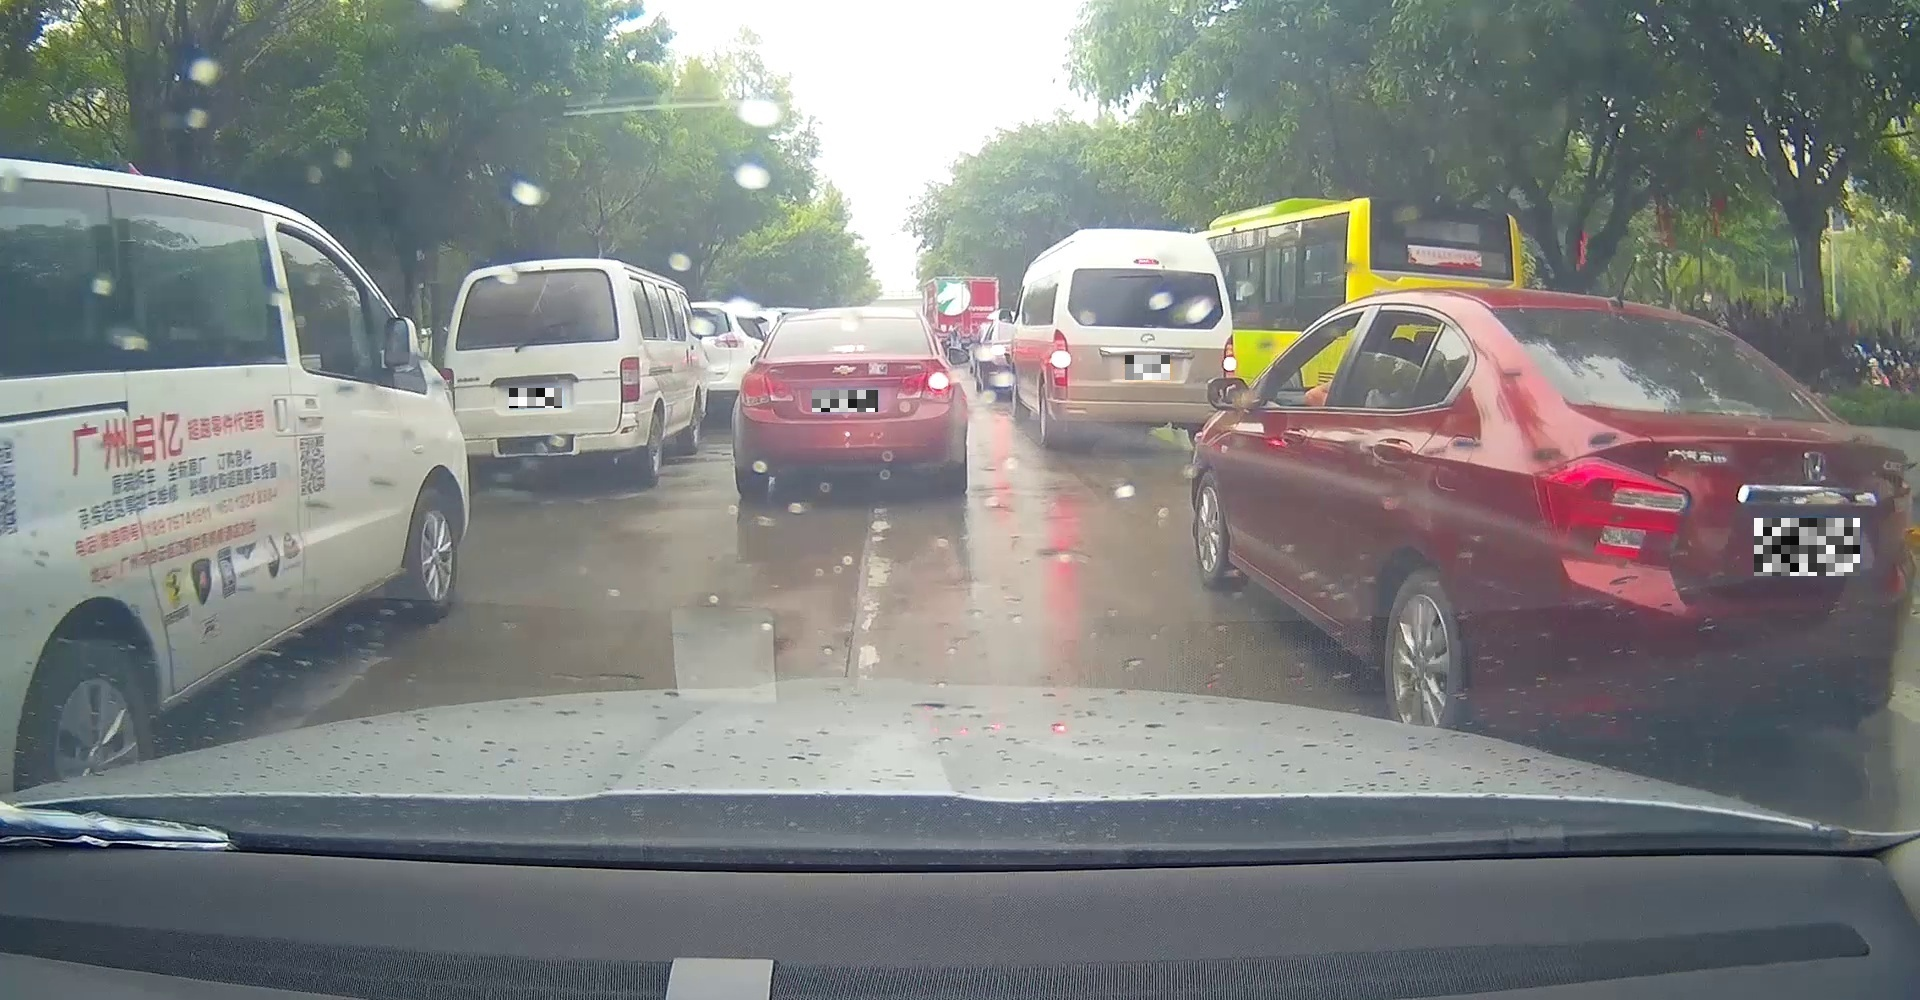L_light: (1531, 456, 1691, 565), (740, 373, 794, 407), (1050, 327, 1072, 386), (439, 367, 455, 412)
R_light: (897, 368, 952, 402), (1890, 476, 1911, 558), (618, 357, 639, 404), (1223, 335, 1237, 378)
T_light: (1596, 305, 1653, 324), (830, 343, 865, 353), (1133, 258, 1161, 265), (523, 268, 550, 275)
day-brake: (1049, 228, 1237, 447)
day-no: (1481, 287, 1912, 742), (439, 258, 643, 490)
day-right: (738, 306, 955, 501)
plate_1: (509, 388, 563, 409)
plate_2: (811, 390, 877, 412)
plate_3: (1125, 355, 1170, 379)
plate_4: (1754, 518, 1860, 576)
